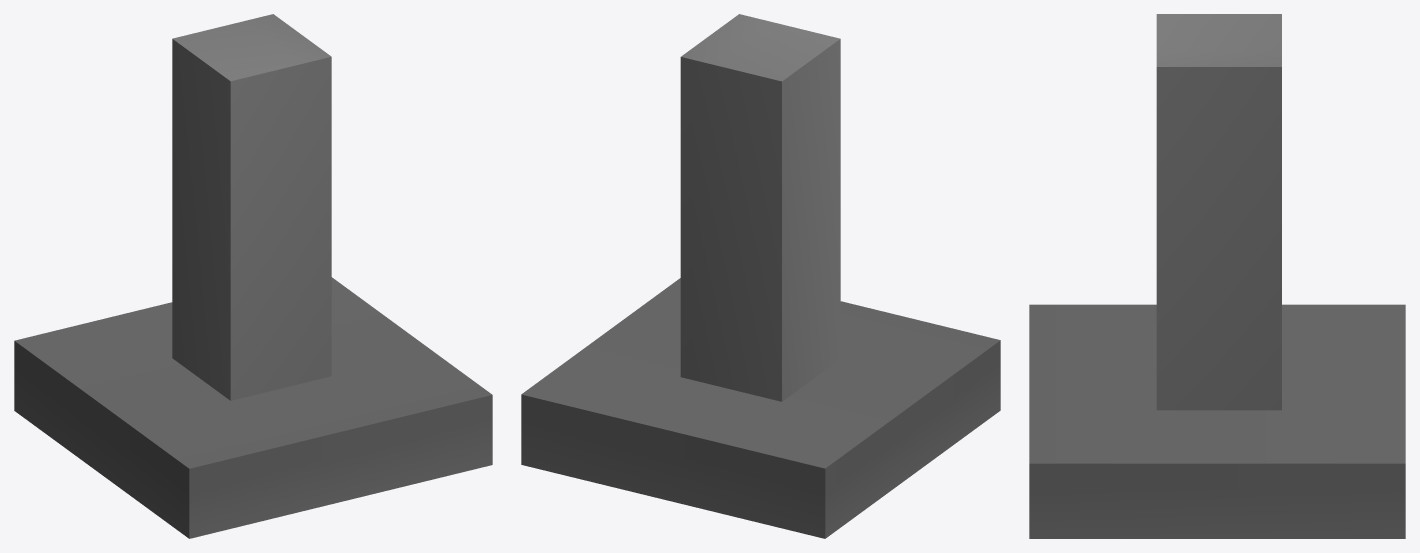
File: harpoon_1.fbx
The picture shows the model from 3 angles, left to right: view 1: azimuth 30°, elevation 25°; view 2: azimuth 150°, elevation 25°; view 3: azimuth 270°, elevation 25°; orthographic projection. The views are drawn at different scales.
Visible parts, largest first — view 1: Cube.054; view 2: Cube.054; view 3: Cube.054.
Boxes of the visible parts, <box> form: Cube.054: <box>14,14,492,538</box>; Cube.054: <box>521,14,1000,538</box>; Cube.054: <box>1029,14,1405,538</box>.
Bounding box in the file's own units: 60 × 73.69 × 60.
